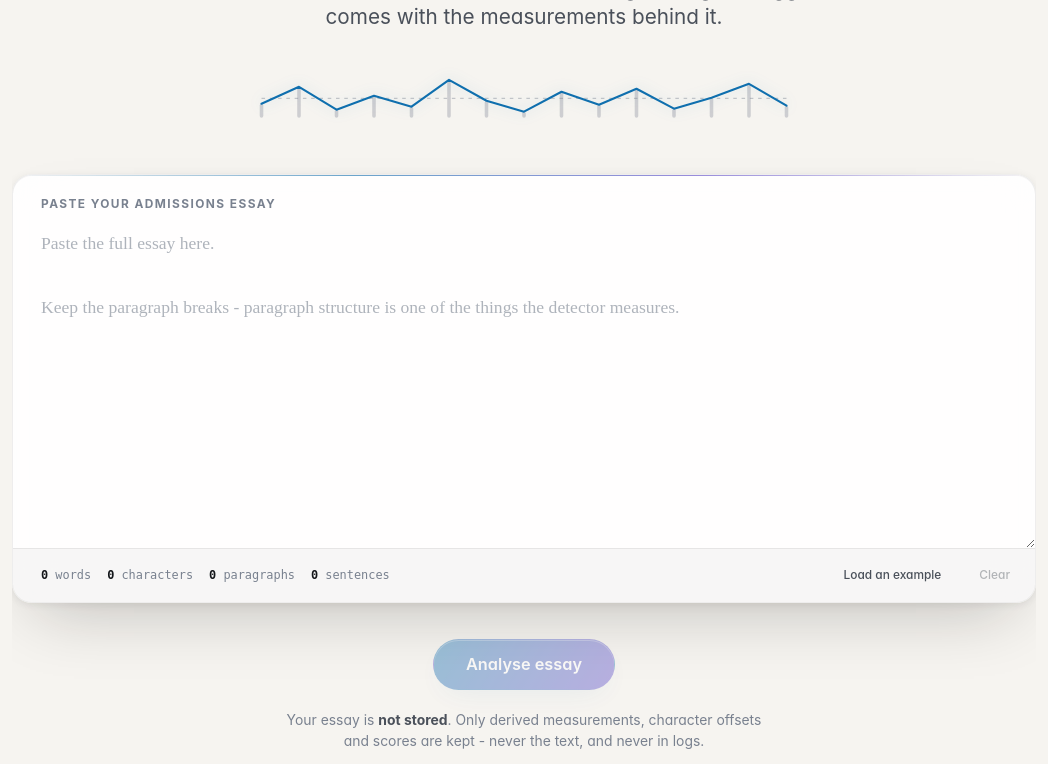
Test: EssayEditor › shows live word, character, paragraph and sentence counts
(page scrolled)
Type "One two three. Four five." into the text box labelled "Paste your admissions essay" at (524, 380), box [13,212,1035,548]
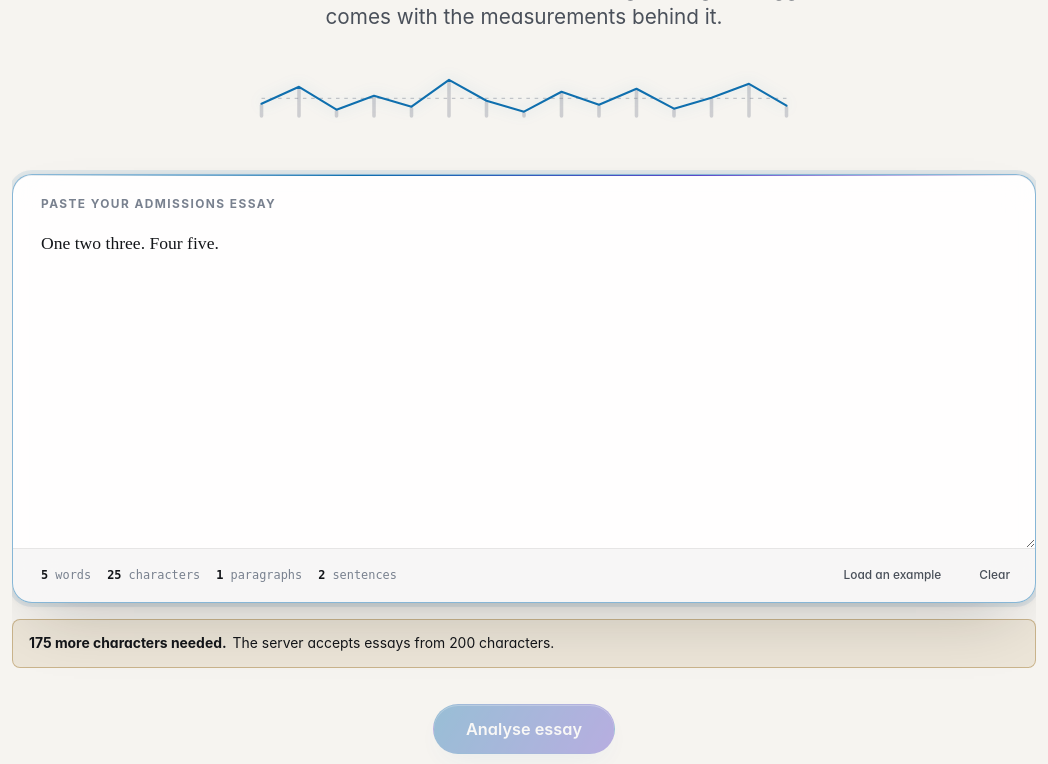
Expected: the text "5" is shown, [41,568,48,582]
Expected: the text "25" is shown, [107,568,121,582]
Expected: the text "2" is shown, [318,568,325,582]
